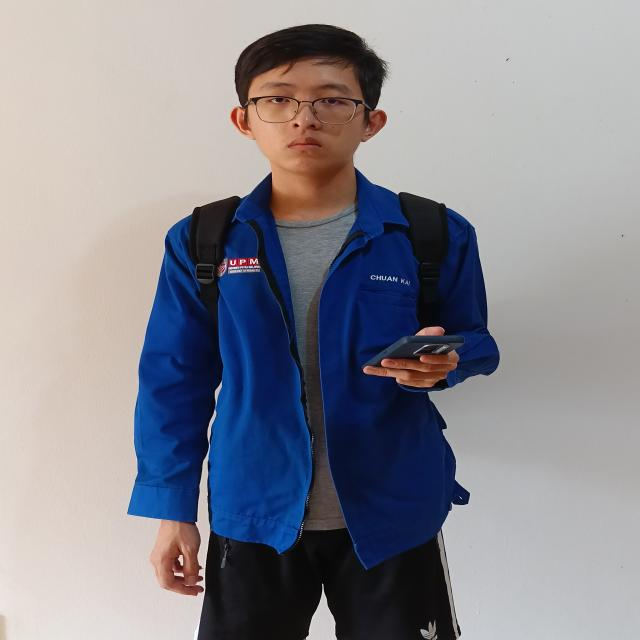person_with_labcoat: (128, 24, 499, 640)
